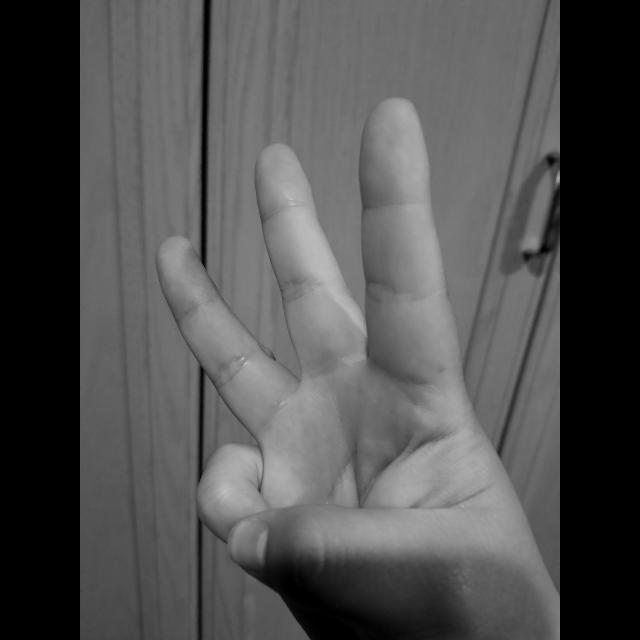W: (150, 92, 560, 640)
